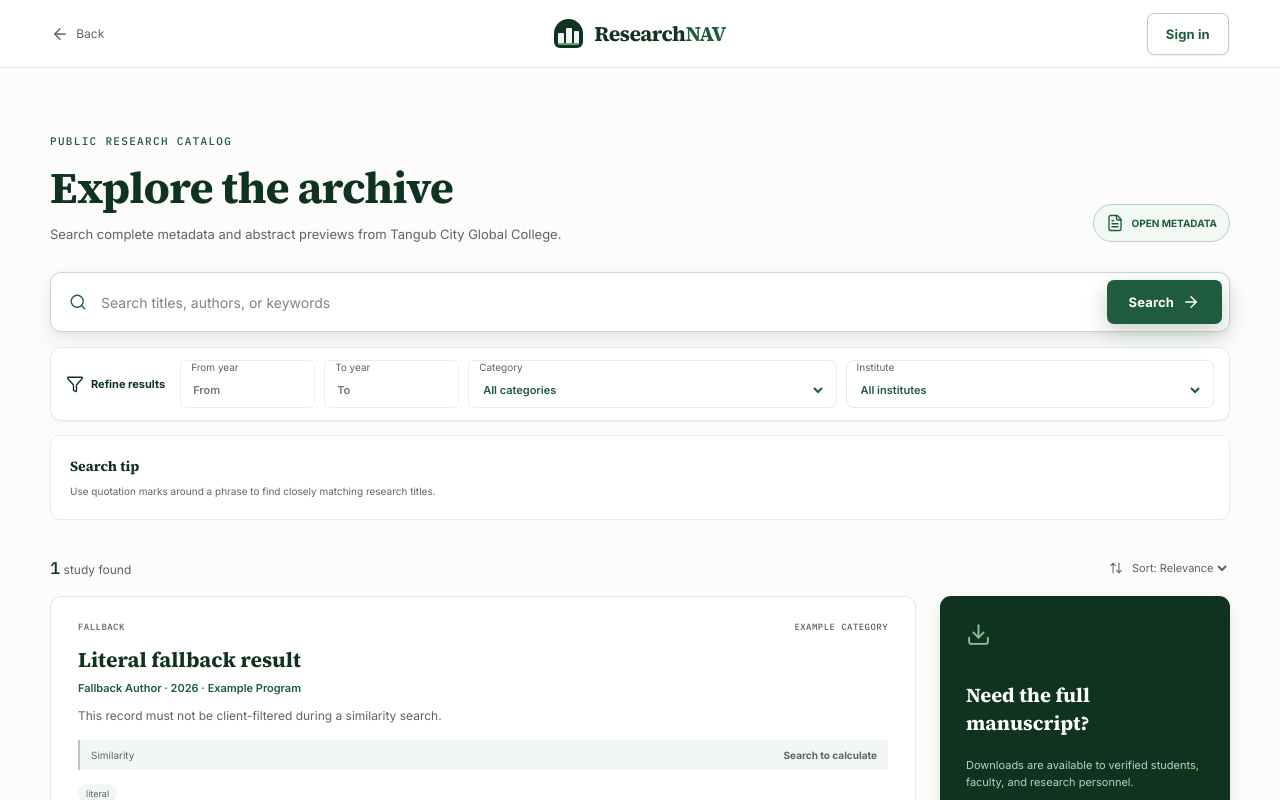
Test case: CatalogPage public similarity search › stores an inclusive publication-year range in the catalog URL
The width and height of the screenshot is (1280, 800).
Type "2022" into the number field named "Filter from publication year" at point(248, 390), box [191,373,304,407]
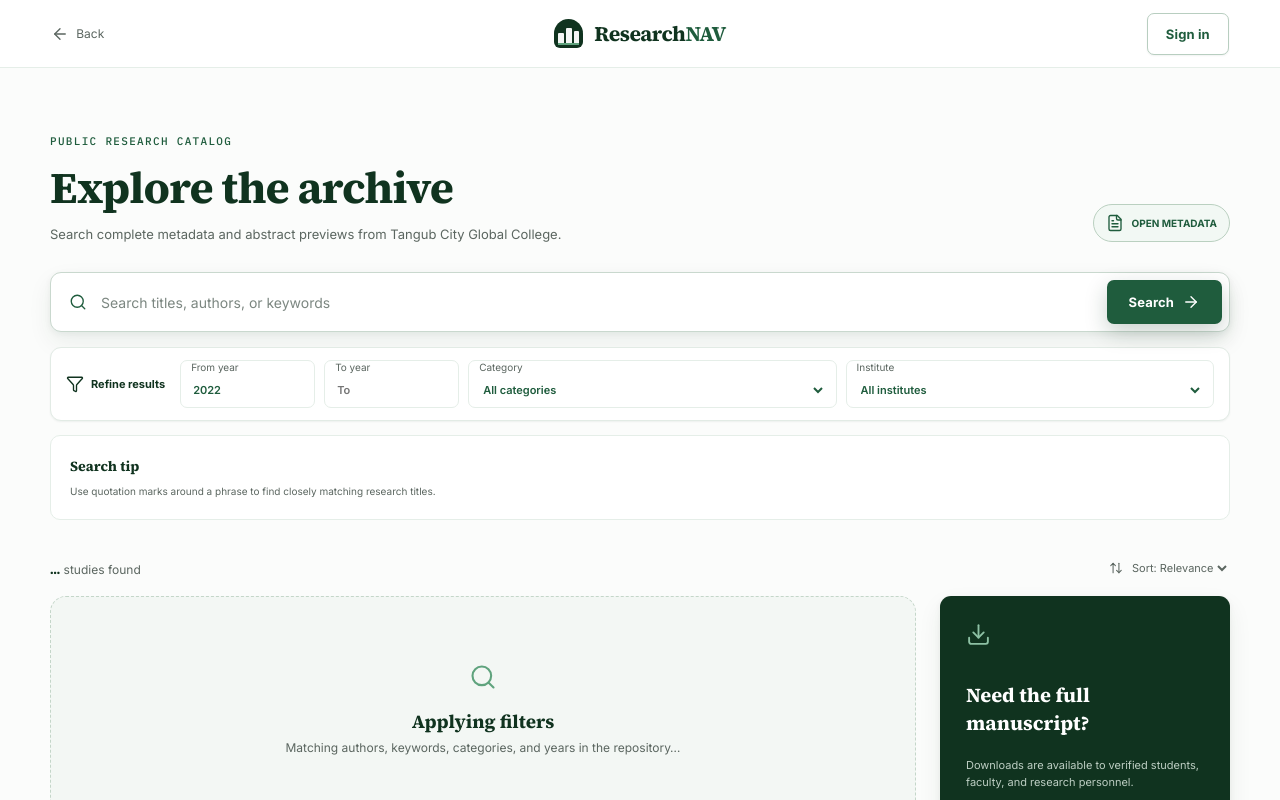
Type "2024" into the number field named "Filter to publication year" at point(392, 390), box [335,373,448,407]
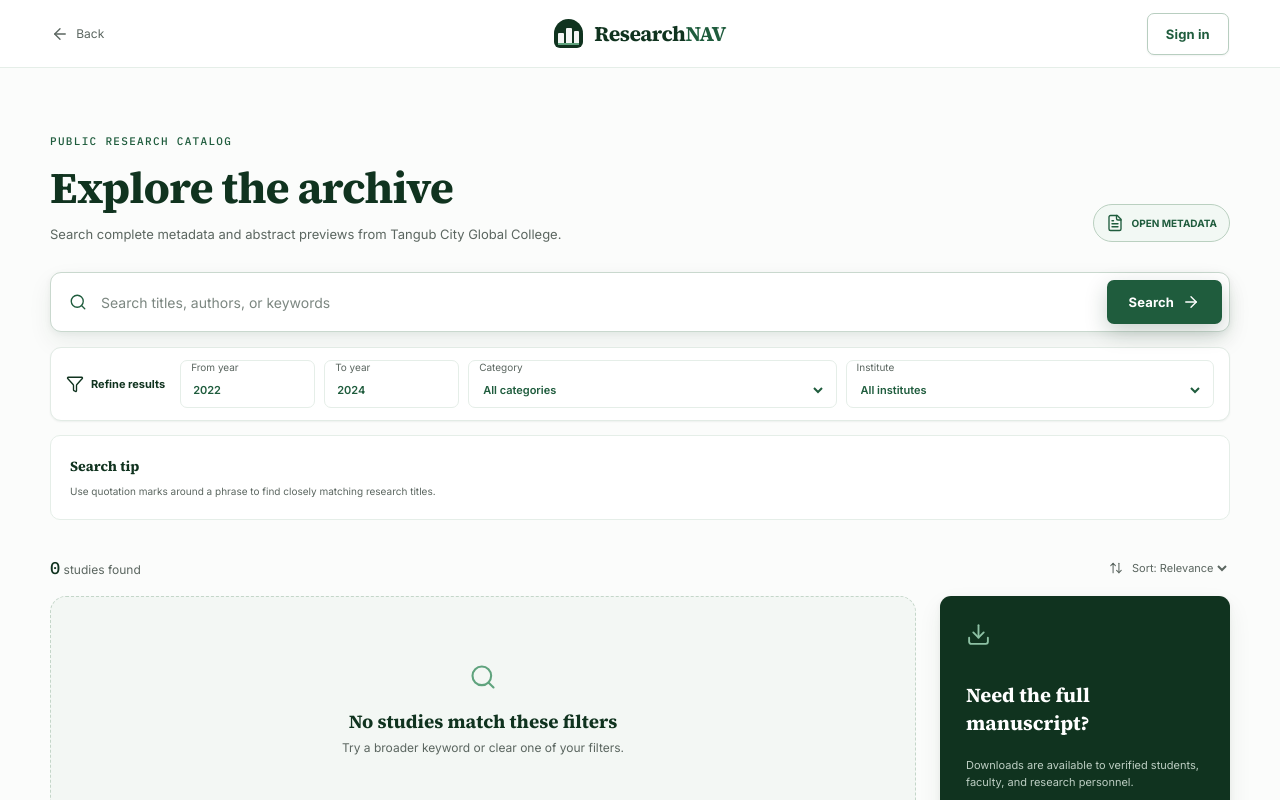
Expected: the heading "No studies match these filters" is shown, [349,709,617,734]
